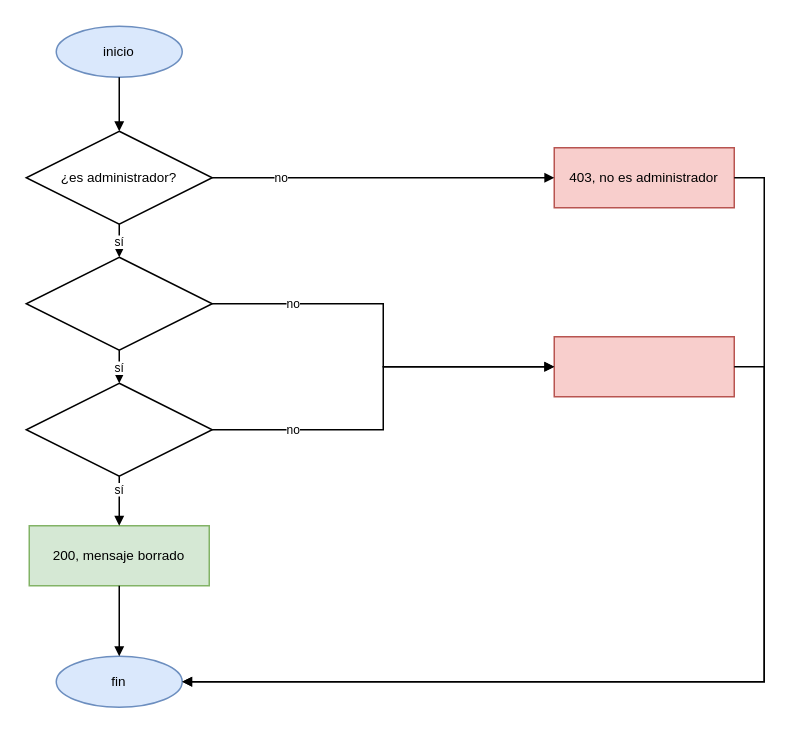
Image size: 800x734. Some labels were removed from this diagram. The box of each missing label's shape, as (x1, y1, x2, y2) in pixels:
404, mensaje no encontrado: (553, 335, 734, 397)
¿el id es válido?: (25, 256, 212, 350)
¿se borró el mensaje?: (25, 382, 212, 476)
